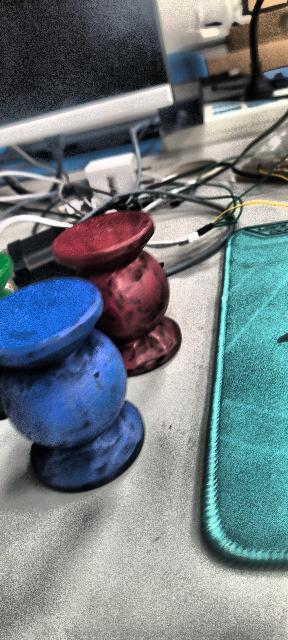blue: (1, 276, 145, 492)
red: (51, 212, 182, 374)
